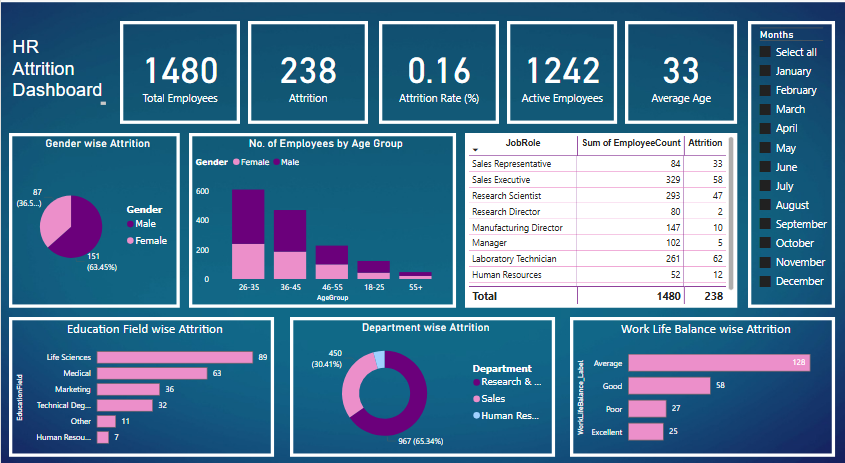

The dashboard page shown, as its layout file describes it:
{"tool":"powerbi","page":{"name":"Page 1","canvas":[1280,720],"ordinal":0},"visuals":[{"type":"donutChart","title":"Department wise Attrition","fields":{"Category":["Sheet1.Department"],"Y":["CountNonNull(Sheet1.Attrition)"]},"box":[438.3,483.8,401.9,212.3],"z":5},{"type":"columnChart","title":"No. of Employees by Age Group","fields":{"Series":["Sheet1.Gender"],"Y":["Sum(Sheet1.EmployeeCount)"],"Category":["Sheet1.AgeGroup"]},"box":[285.1,204.7,404.9,265.4],"z":6},{"type":"tableEx","fields":{"Values":["Sheet1.JobRole","Sum(Sheet1.EmployeeCount)","Sheet1.Attrition"]},"box":[703.7,204.7,412.5,265.4],"z":7},{"type":"clusteredBarChart","title":"Education Field wise Attrition","fields":{"Category":["Sheet1.EducationField"],"Y":["Sheet1.Attrition"]},"box":[12.1,483.8,401.9,212.3],"z":8},{"type":"clusteredBarChart","title":"Work Life Balance wise Attrition","fields":{"Category":["Sheet1.WorkLifeBalance_Label"],"Y":["Sheet1.Attrition"]},"box":[862.9,483.8,401.9,212.3],"z":9},{"type":"slicer","fields":{"Values":["MonthTable.Month"]},"box":[1132.9,34.9,131.9,435.3],"z":10},{"type":"pieChart","title":"Gender wise Attrition","fields":{"Category":["Sheet1.Gender"],"Y":["Sheet1.Attrition"]},"box":[12.1,204.7,259.3,265.4],"z":11},{"type":"card","fields":{"Values":["Sheet1.Total Employees"]},"box":[180.5,34.9,182,156.2],"z":12},{"type":"card","fields":{"Values":["Sheet1.Attrition"]},"box":[374.6,34.9,182,156.2],"z":13},{"type":"card","fields":{"Values":["Sheet1.Attrition Rate (%)"]},"box":[573.3,34.9,182,156.2],"z":14},{"type":"card","fields":{"Values":["Sheet1.Active Employees"]},"box":[767.4,34.9,166.8,156.2],"z":15},{"type":"card","fields":{"Values":["Sheet1.Average Age"]},"box":[946.4,34.9,169.9,156.2],"z":16},{"type":"textbox","title":"HR Attrition Dashboard","box":[12.1,59.1,151.7,107.7],"z":17}]}

Visuals, with their boxes in screenshot pixels (x1, y1, x2, y2), scaled from the page's 1280x720 canvas onto the 845x463 screenshot:
"Department wise Attrition" donutChart: <region>289, 311, 555, 448</region>
"No. of Employees by Age Group" columnChart: <region>188, 132, 456, 302</region>
tableEx - Sheet1.JobRole x Sum(Sheet1.EmployeeCount): <region>465, 132, 737, 302</region>
"Education Field wise Attrition" clusteredBarChart: <region>8, 311, 273, 448</region>
"Work Life Balance wise Attrition" clusteredBarChart: <region>570, 311, 835, 448</region>
slicer - MonthTable.Month: <region>748, 22, 835, 302</region>
"Gender wise Attrition" pieChart: <region>8, 132, 179, 302</region>
card - Sheet1.Total Employees: <region>119, 22, 239, 123</region>
card - Sheet1.Attrition: <region>247, 22, 367, 123</region>
card - Sheet1.Attrition Rate (%): <region>378, 22, 499, 123</region>
card - Sheet1.Active Employees: <region>507, 22, 617, 123</region>
card - Sheet1.Average Age: <region>625, 22, 737, 123</region>
"HR Attrition Dashboard" textbox: <region>8, 38, 108, 107</region>
